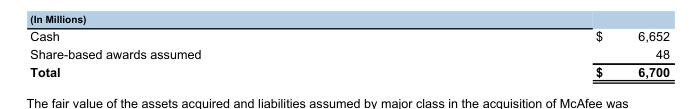table: (29, 28, 668, 78)
table column: (29, 28, 397, 78), (397, 28, 668, 78)
table row: (29, 44, 668, 62), (29, 28, 668, 44), (29, 62, 668, 78)
